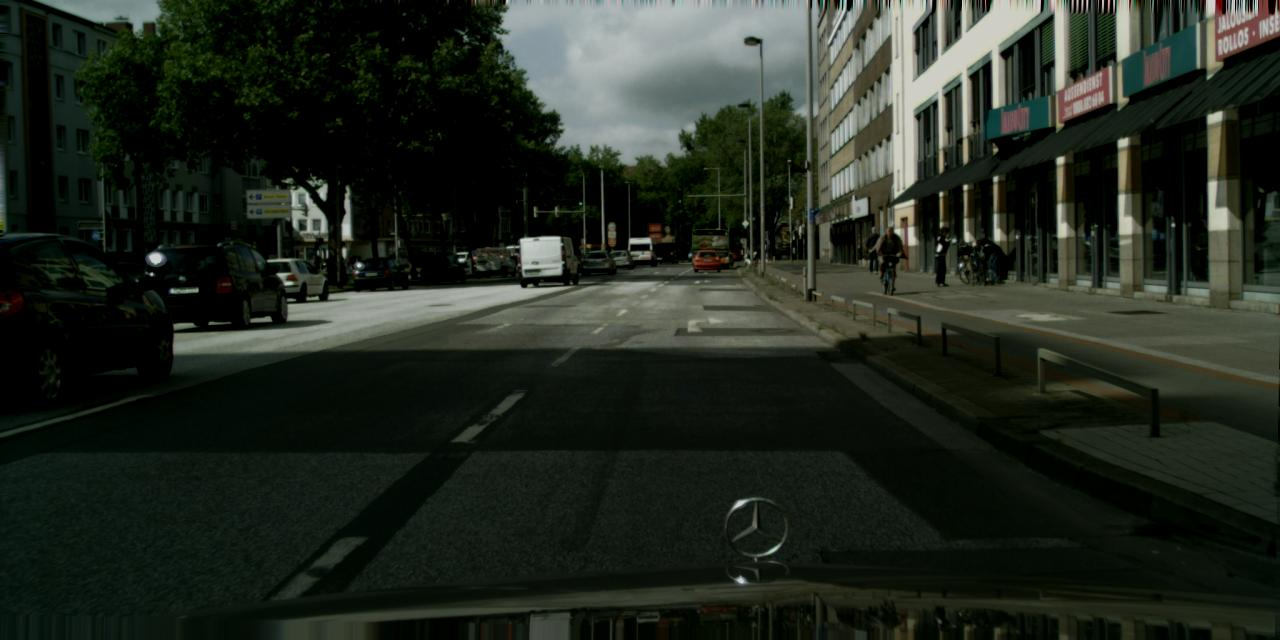ped: (930, 226, 954, 286), (877, 225, 900, 283), (863, 226, 883, 274), (277, 251, 289, 282), (314, 256, 321, 274), (347, 256, 354, 273), (312, 254, 318, 270), (509, 242, 510, 245)
